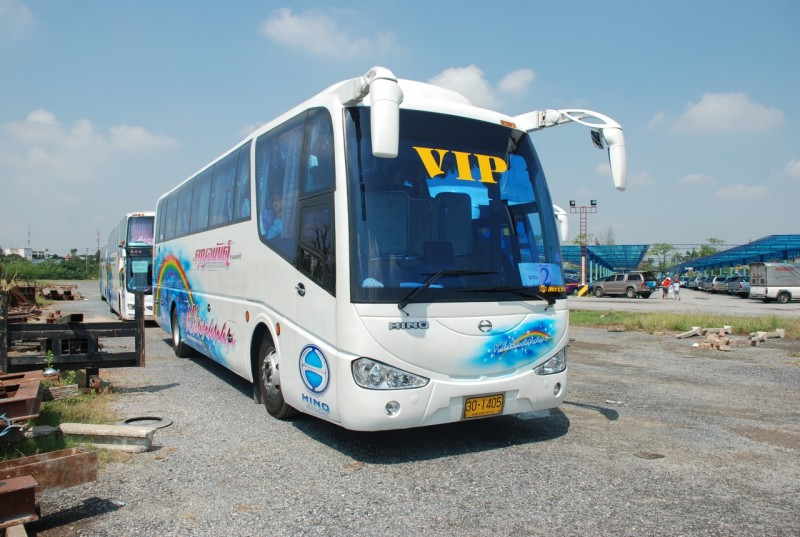bus: (154, 67, 570, 435)
